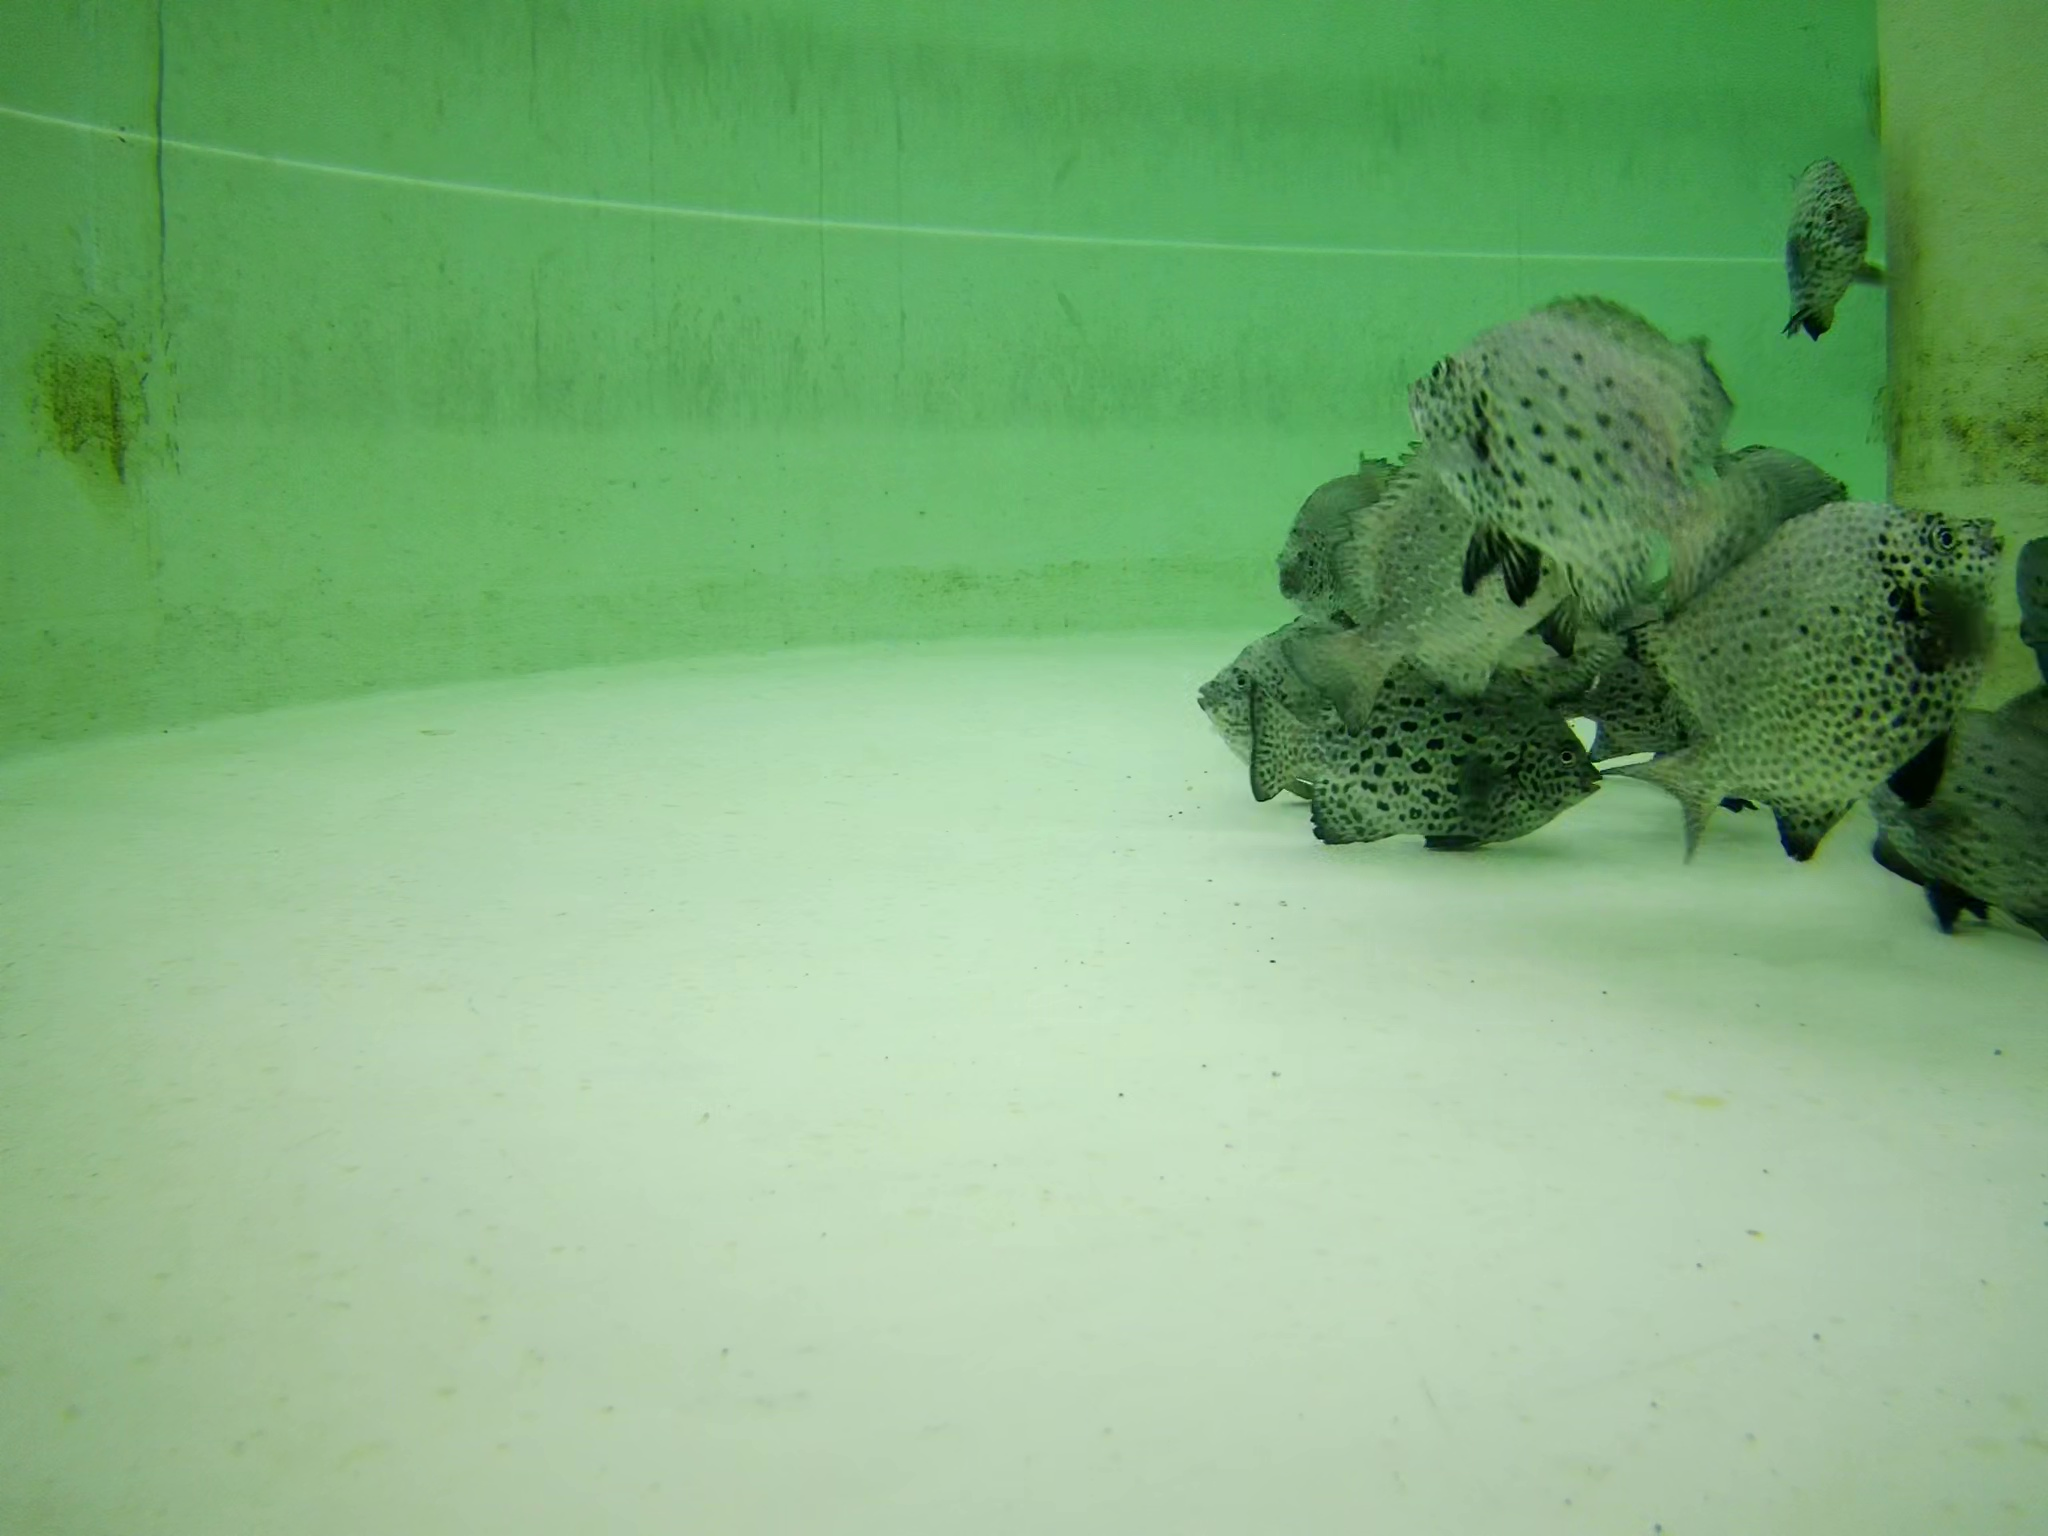fish: (1609, 481, 1993, 860), (1408, 295, 1730, 571), (1242, 653, 1590, 849), (1867, 691, 2048, 931), (1264, 439, 1435, 602), (1192, 594, 1342, 779), (1772, 148, 1879, 332)
